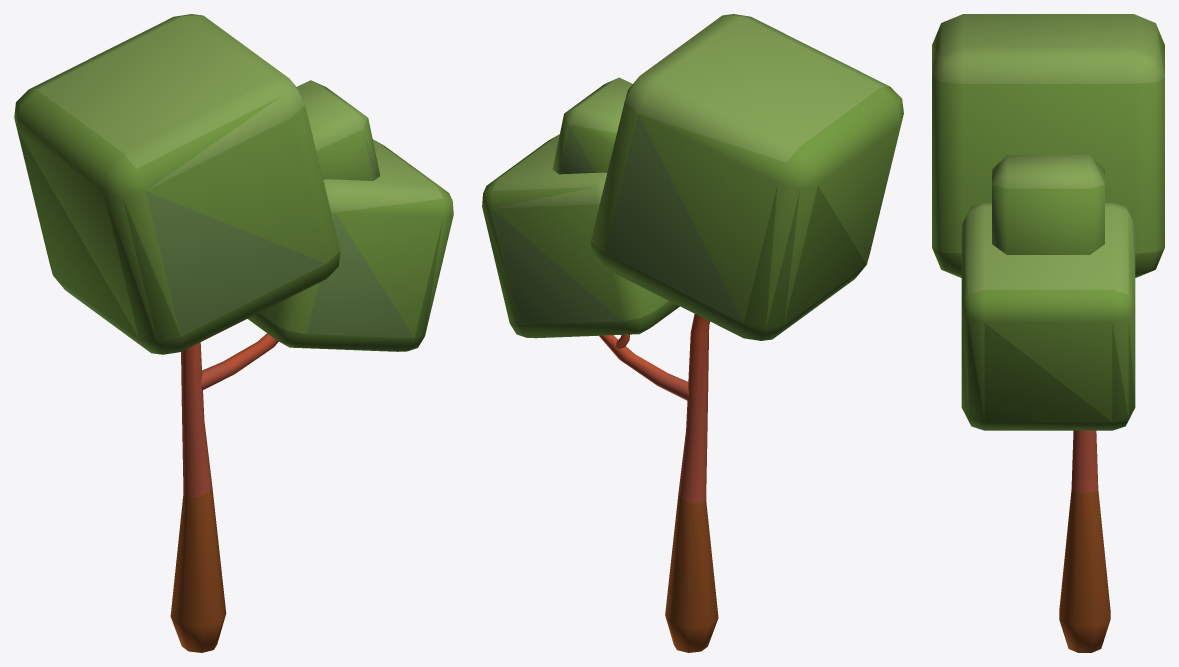
The model's file is itch_kaykit_forest_tree_2_b_color1.glb.
3 renders of one model, left to right at view 1: azimuth 30°, elevation 25°; view 2: azimuth 150°, elevation 25°; view 3: azimuth 270°, elevation 25°, orthographic. The views are drawn at different scales.
Parts seen in each view (by area): view 1: Tree_2_B_Color1; view 2: Tree_2_B_Color1; view 3: Tree_2_B_Color1.
Part boxes in pixels (x1=…): Tree_2_B_Color1: x1=14, y1=14, x2=453, y2=652; Tree_2_B_Color1: x1=482, y1=14, x2=903, y2=652; Tree_2_B_Color1: x1=932, y1=14, x2=1164, y2=652.
Size of the model in its own units: 1.22 by 1.99 by 0.6924.
